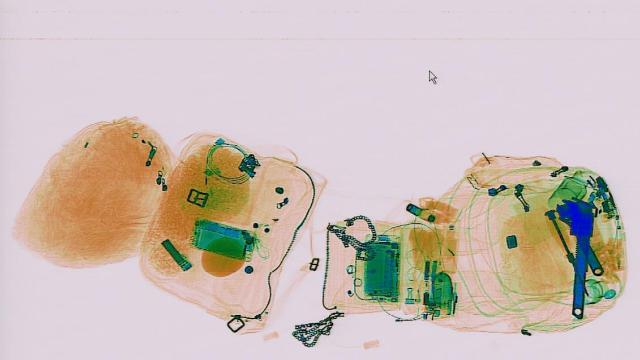Wrench: (547, 196, 617, 275)
